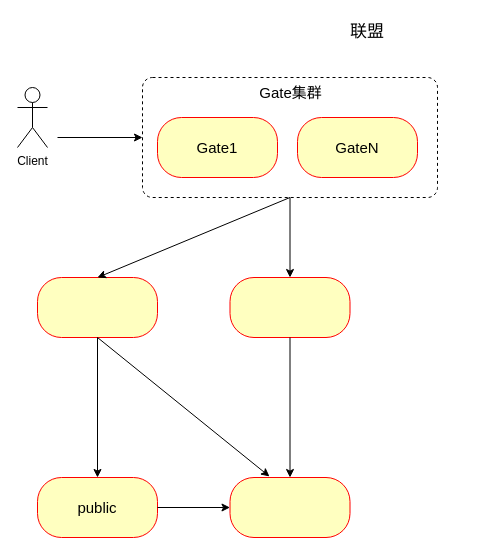
Some shapes in this 485 by 555 pixel diagram are drawn without their labels. Each missing label, with the centre of its shape:
Alliance (联盟服): (289,507)
Game: (97,307)
Scence: (289,307)
